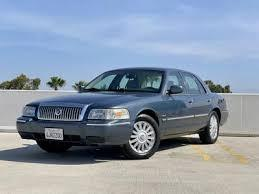Mercury: (53, 106, 65, 118)
